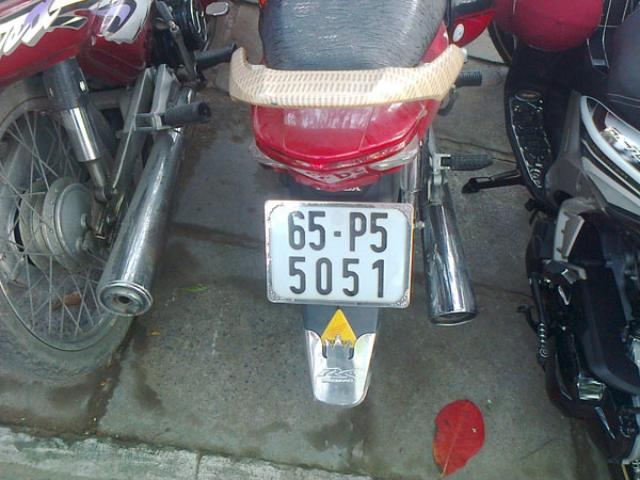plate: (271, 202, 405, 306)
